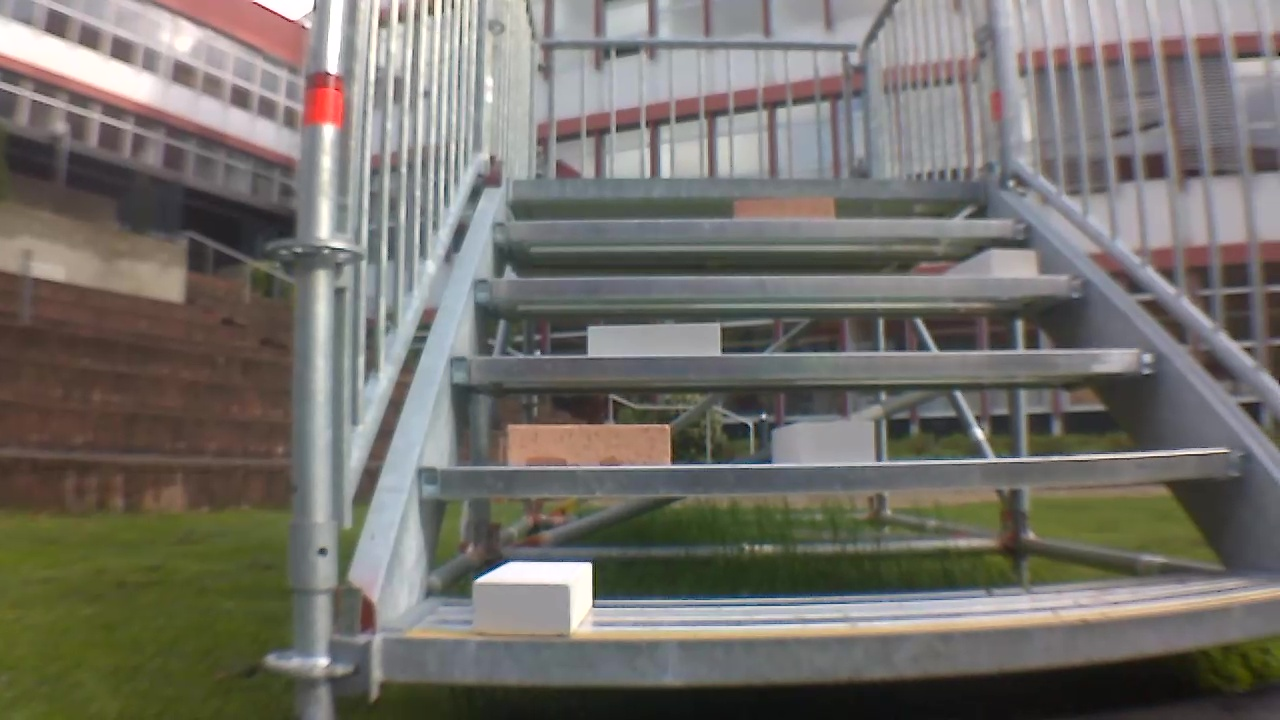brick: (473, 562, 592, 635), (508, 424, 668, 468), (772, 421, 875, 464), (588, 323, 719, 355), (735, 197, 833, 219), (950, 249, 1035, 274)
edge: (386, 597, 1280, 684), (422, 452, 1247, 495), (451, 349, 1158, 382), (474, 274, 1087, 297), (496, 219, 1029, 239), (510, 178, 985, 197)
stairs: (282, 3, 1280, 719)
steps: (376, 168, 1280, 703)
